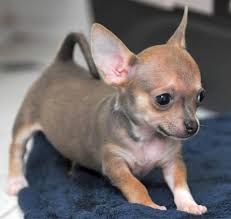chihuahua: (4, 5, 211, 217)
